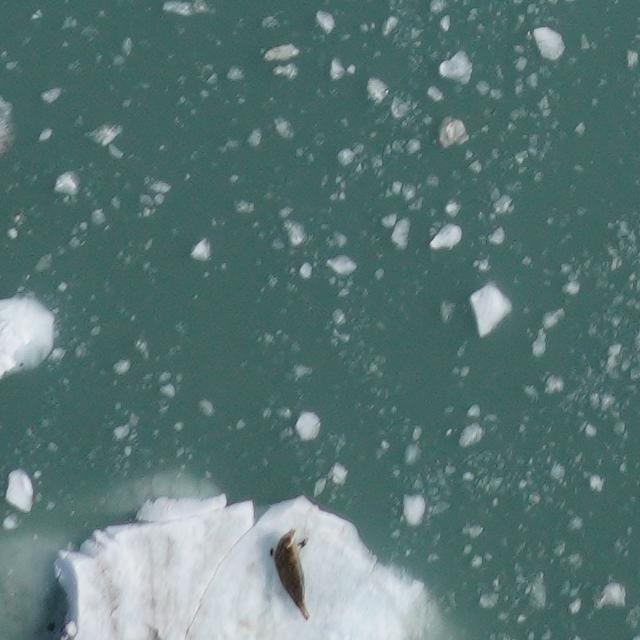seal: (267, 525, 314, 622)
